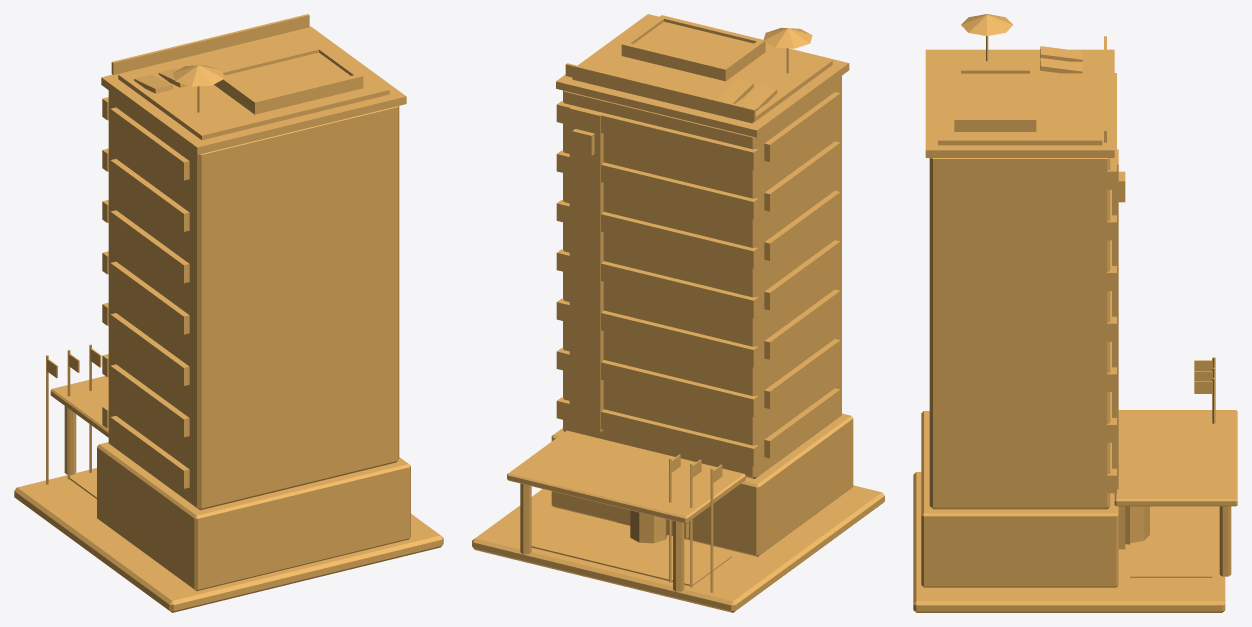
3 renders of one model, left to right at view 1: azimuth 30°, elevation 25°; view 2: azimuth 150°, elevation 25°; view 3: azimuth 270°, elevation 25°, orthographic. The views are drawn at different scales.
Parts seen in each view (by area): view 1: corpo; view 2: corpo; view 3: corpo.
Boxes of the visible parts, <box> form: corpo: <box>14,14,443,612</box>; corpo: <box>472,14,884,612</box>; corpo: <box>913,14,1237,612</box>.
Size of the model in its own units: 1.9 by 3.35 by 1.98.
